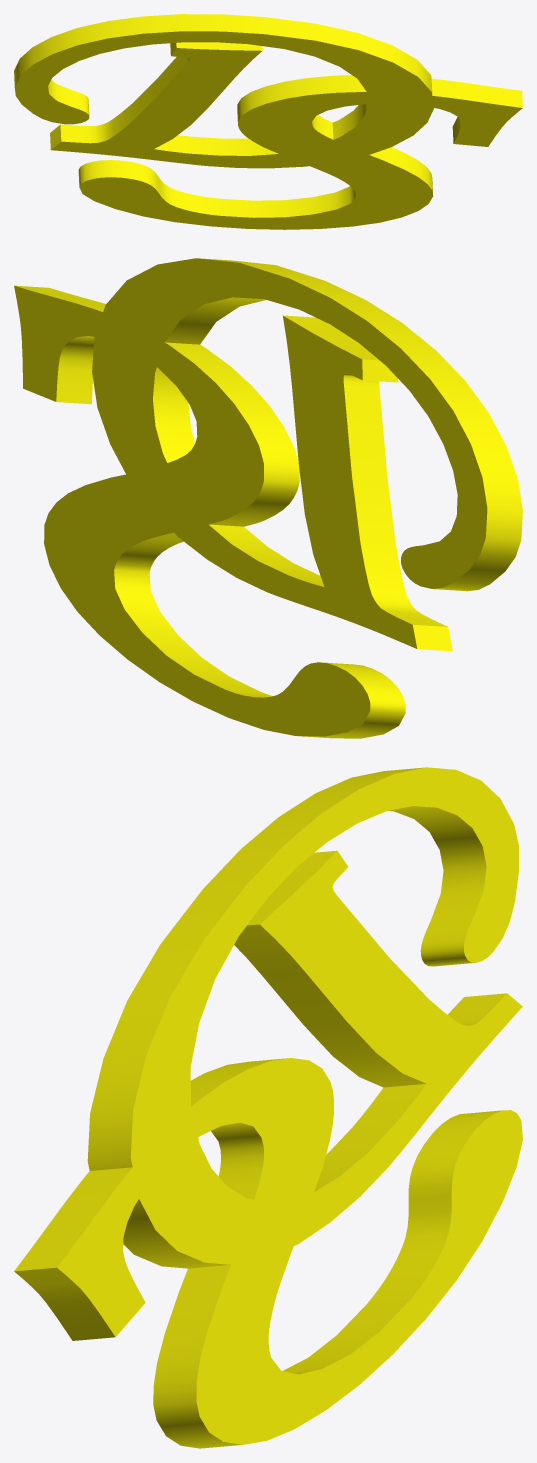
Rendered from destinystudio.glb.
3 renders of one model, top to bottom at view 1: azimuth 30°, elevation 25°; view 2: azimuth 150°, elevation 25°; view 3: azimuth 270°, elevation 25°, orthographic. The views are drawn at different scales.
Parts seen in each view (by area): view 1: node_id10, node_id7; view 2: node_id10, node_id7; view 3: node_id10, node_id7.
Boxes of the visible parts, left/top/right/bottom form: node_id10: left=14, top=14, right=433, bottom=168; node_id7: left=78, top=75, right=522, bottom=229; node_id10: left=92, top=258, right=522, bottom=651; node_id7: left=14, top=285, right=405, bottom=738; node_id10: left=87, top=767, right=522, bottom=1268; node_id7: left=14, top=1058, right=522, bottom=1448.
Size of the model in its own units: 0.5078 by 0.2888 by 0.28.
